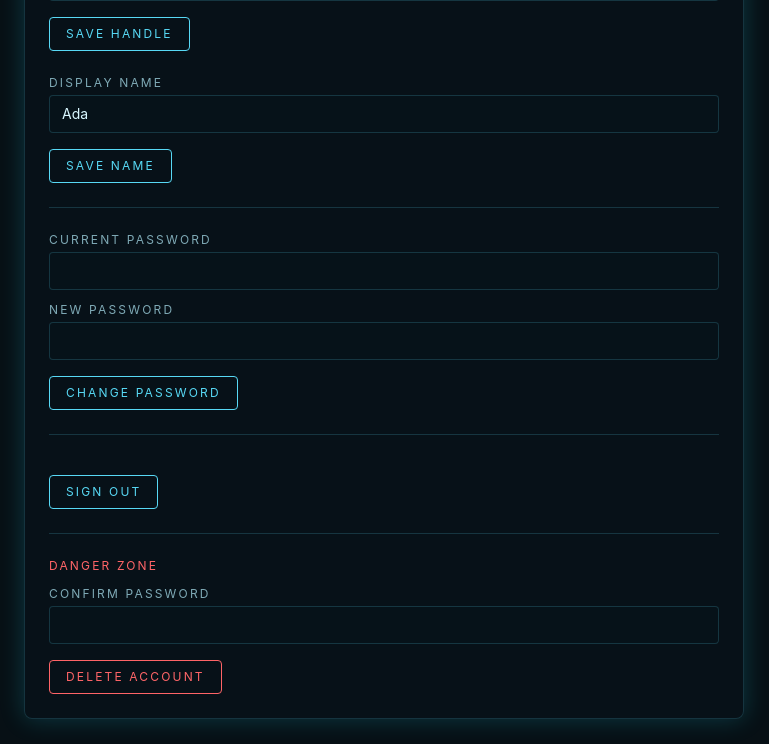
Test: AccountPage profile management › deletes the account after password confirmation
(page scrolled)
Type "hunter22hunter22" into the password field labelled "Confirm Password" at x=384, y=625, box [49, 606, 719, 644]
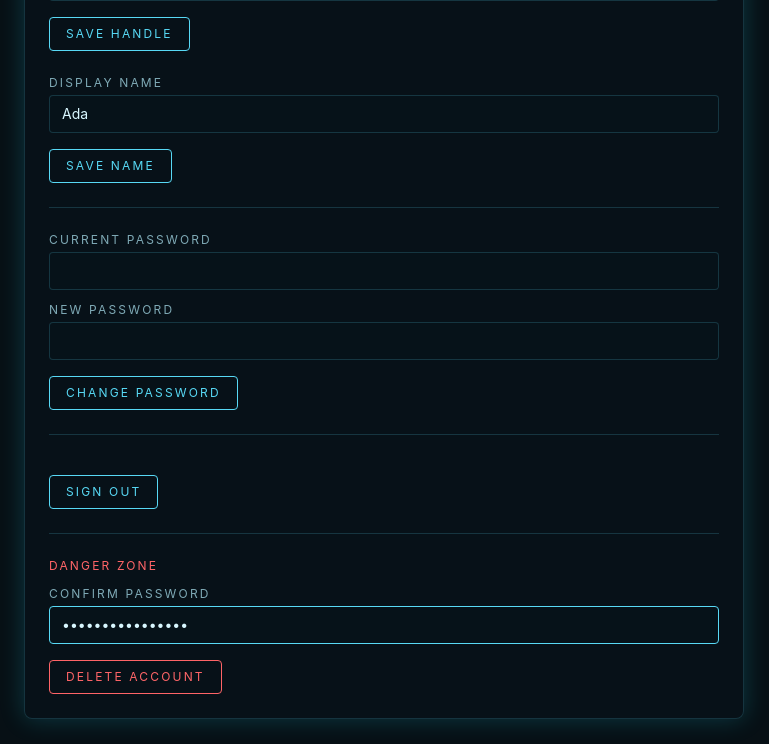
Click the button "Delete Account" at x=135, y=677, box [49, 660, 222, 694]
(page scrolled)
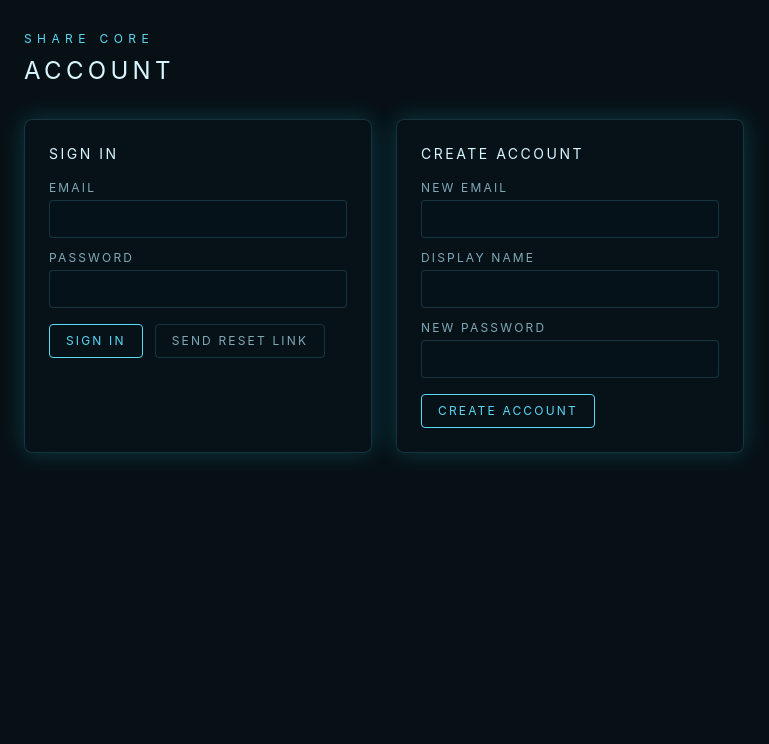
Now the heading "Sign In" is shown, box [49, 145, 119, 162]
